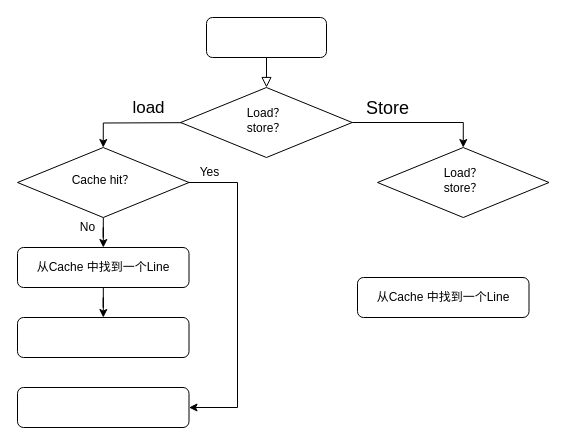
Some shapes in this 567 by 445 pixel diagram are drawn without their labels. The centre of each missing label's shape, as x and y in pixels:
"Load/Store 指令需要读储存器" goes at point 266,37.
"从下级存储器中读取Data Block到刚刚选中的line中" goes at point 102,337.
"将所需要的数据返给Load指令" goes at point 102,407.
